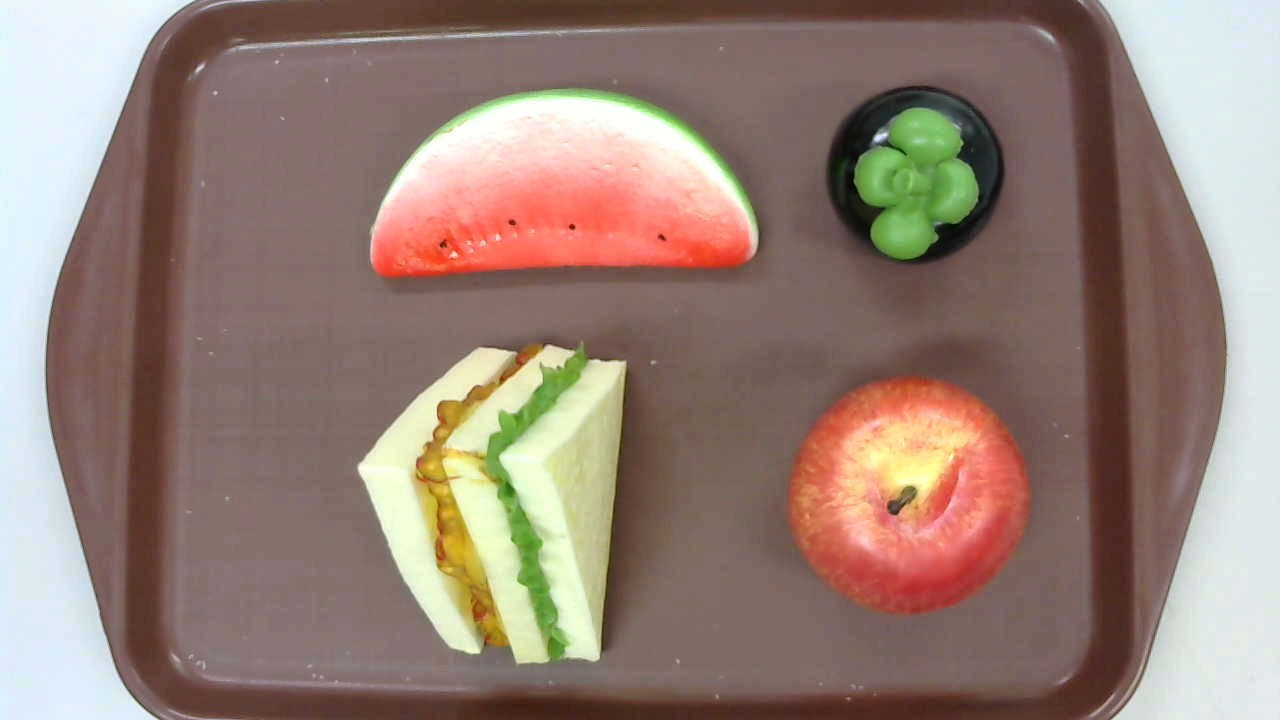mangosteen: (826, 86, 1006, 265)
red apple: (788, 377, 1031, 615)
sandwich: (356, 340, 628, 666)
water melon: (369, 87, 759, 278)
